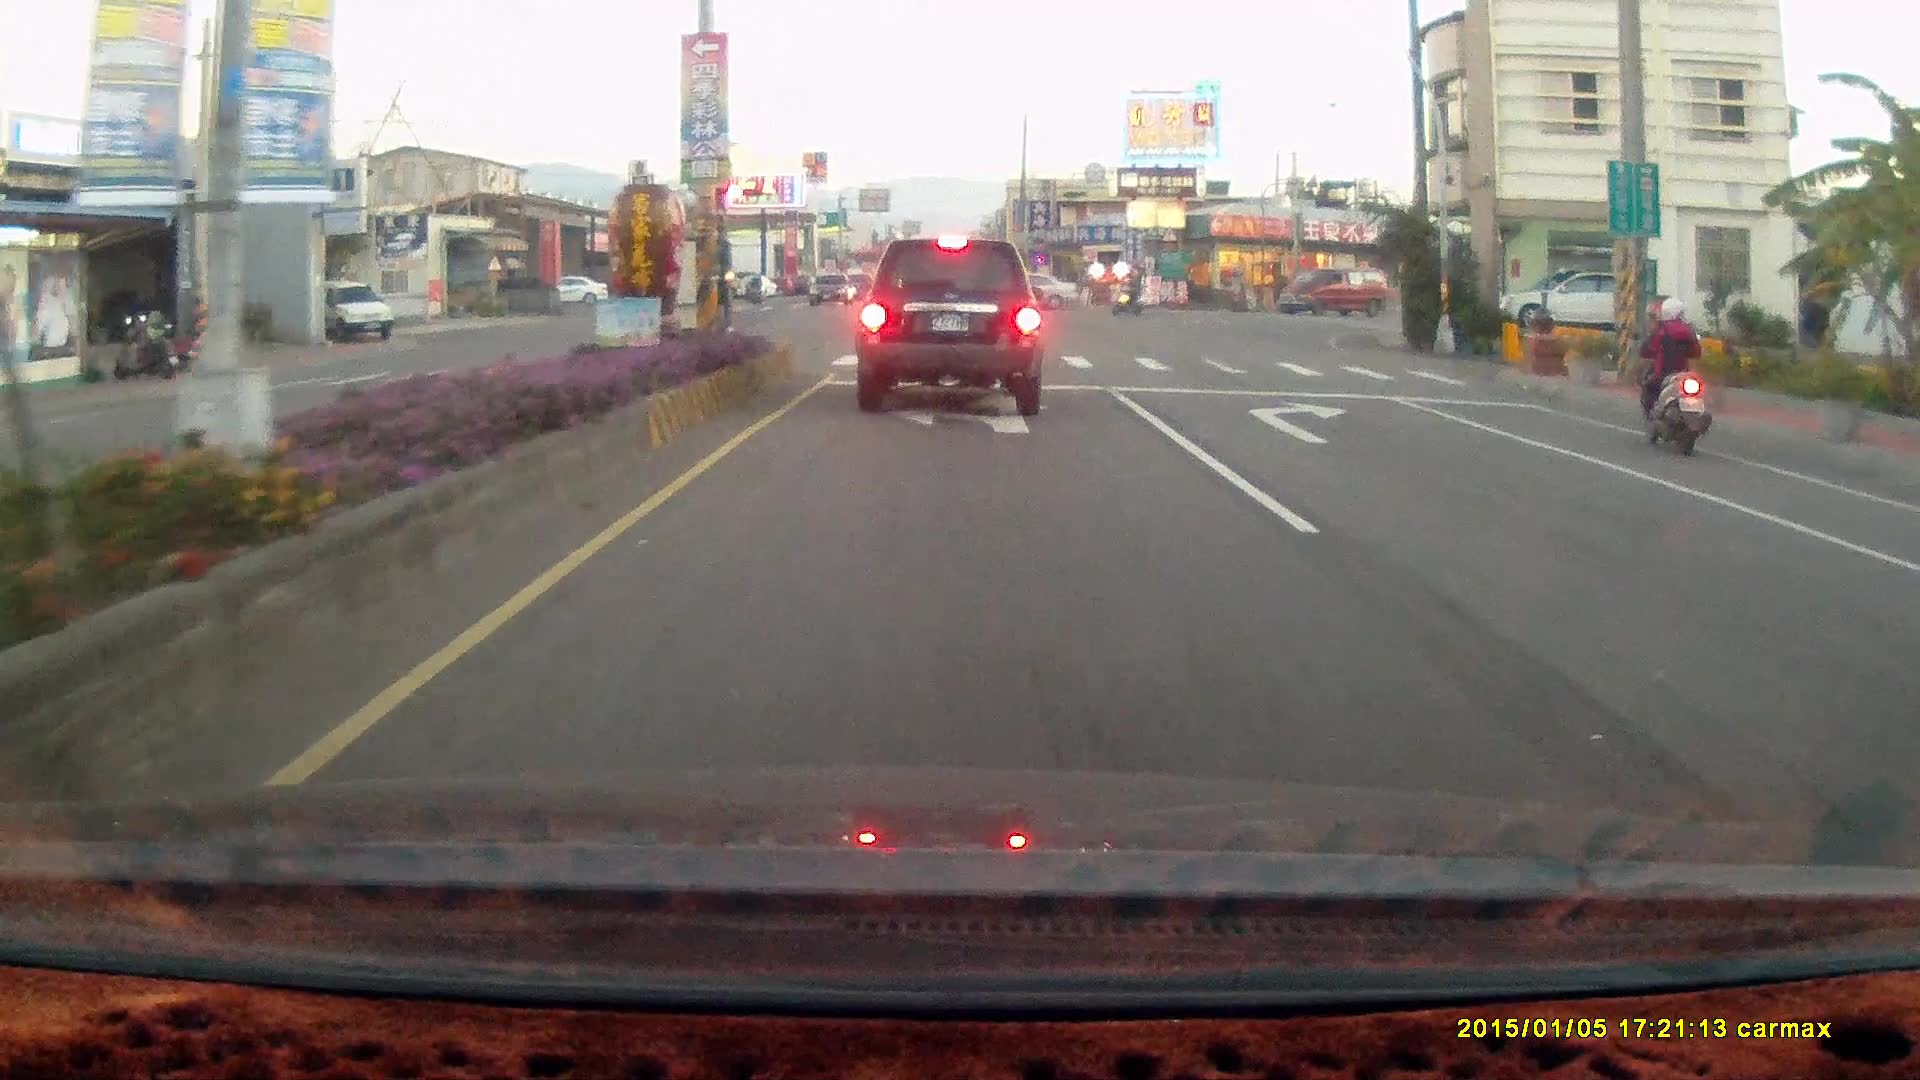rider: (1634, 290, 1711, 454), (1109, 272, 1145, 315)
vehicle: (854, 236, 1044, 415), (1497, 265, 1658, 332), (1896, 493, 1920, 836), (1497, 271, 1626, 333), (1883, 528, 1920, 690), (311, 279, 399, 344), (1278, 264, 1389, 313), (967, 271, 1078, 317), (1280, 268, 1382, 316), (970, 268, 1080, 311)
